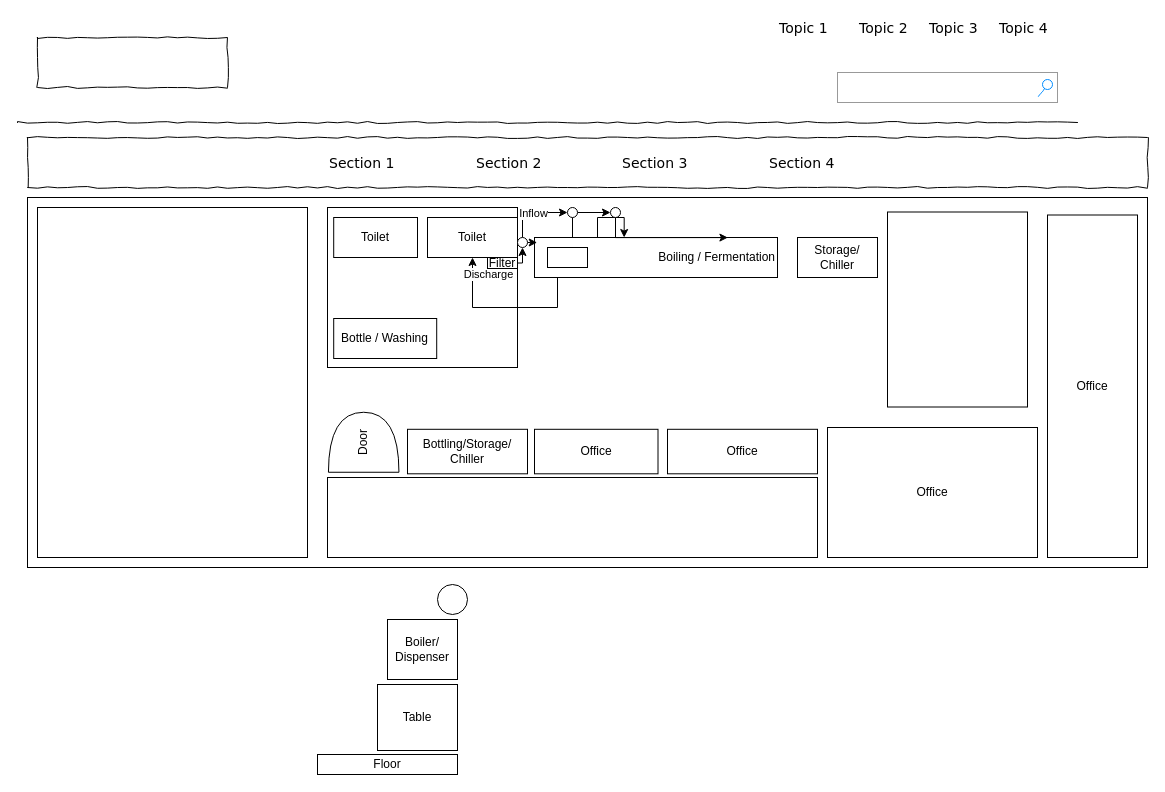
This 1165x792 diagram has some shape labels left out. Here are the shapes that lost their labels. From the top down, the centre of each, then its label:
At [132,62]: "LOGO".
At [947,87]: "Search".
At [567,257]: "Sink".
At [957,309]: "Storage Racks".
At [172,382]: "Resting / Ribat".
At [572,517]: "Entrance/Stair".
At [452,599]: "Pipe".
